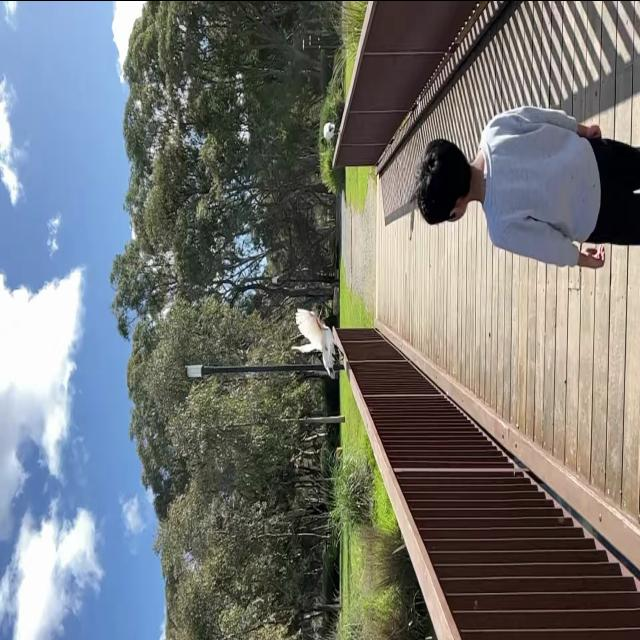Birds-Ibis: (290, 304, 344, 359), (318, 118, 342, 148), (321, 350, 344, 380)
